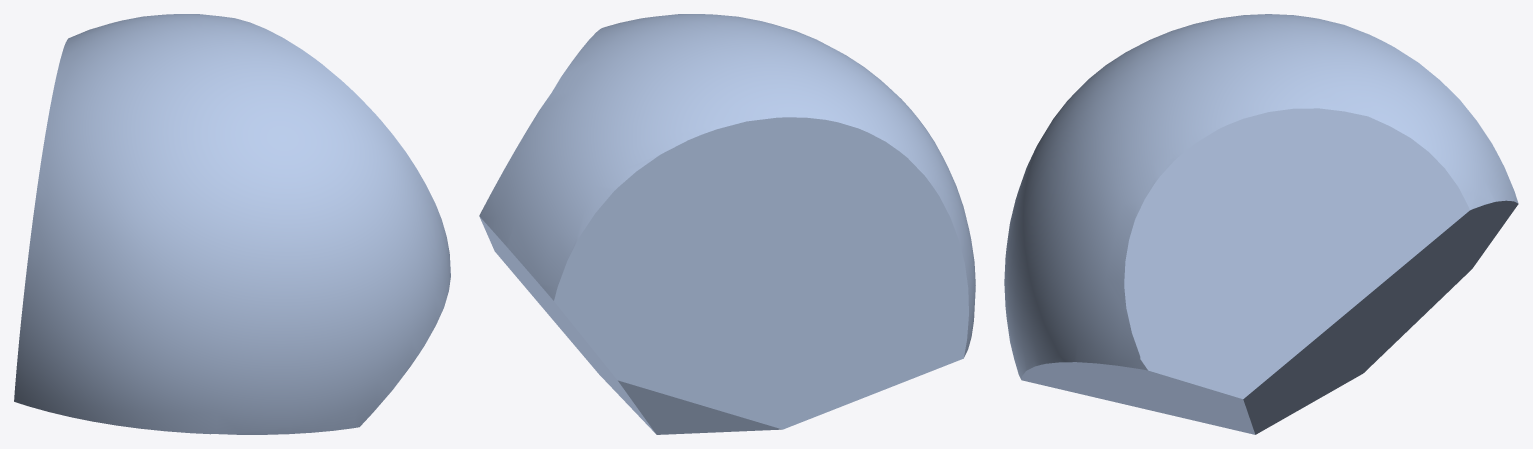
File: Ball2_2.fbx
The picture shows the model from 3 angles, left to right: view 1: azimuth 30°, elevation 25°; view 2: azimuth 150°, elevation 25°; view 3: azimuth 270°, elevation 25°; orthographic projection. The views are drawn at different scales.
Visible parts, largest first — view 1: Cube_cell.063; view 2: Cube_cell.063; view 3: Cube_cell.063.
Part boxes in pixels (box(x1,y1,x2,y2)): Cube_cell.063: box(14, 14, 450, 434); Cube_cell.063: box(479, 14, 975, 434); Cube_cell.063: box(1004, 14, 1518, 434).
Bounding box in the file's own units: 155 × 121 × 163.
